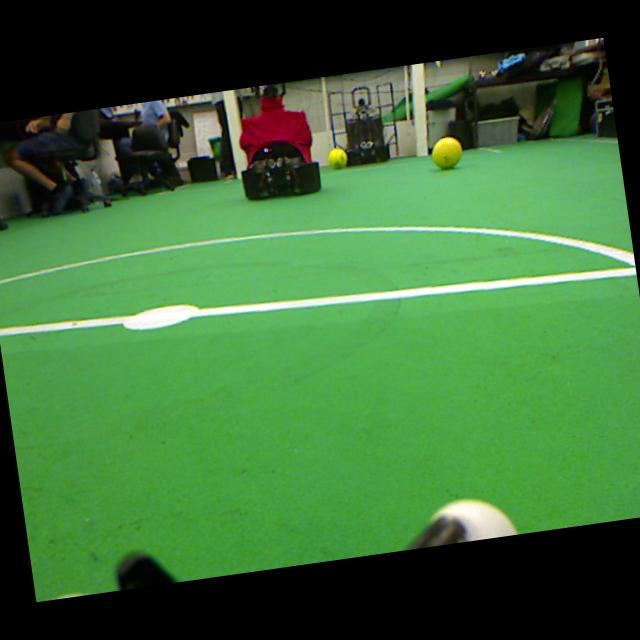ball: (432, 137, 463, 170), (327, 148, 348, 169)
goal: (223, 90, 248, 179), (412, 63, 427, 156)
robot: (344, 87, 390, 166)
